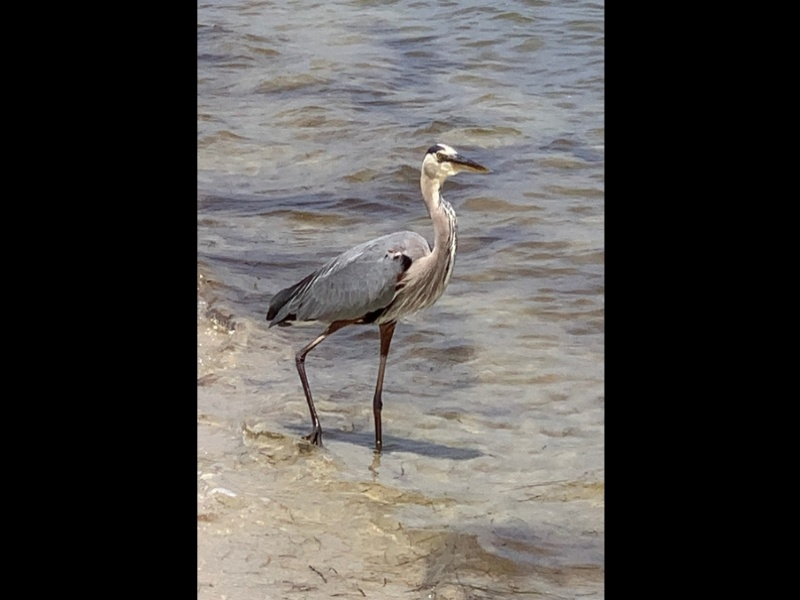heron: (262, 139, 493, 459)
